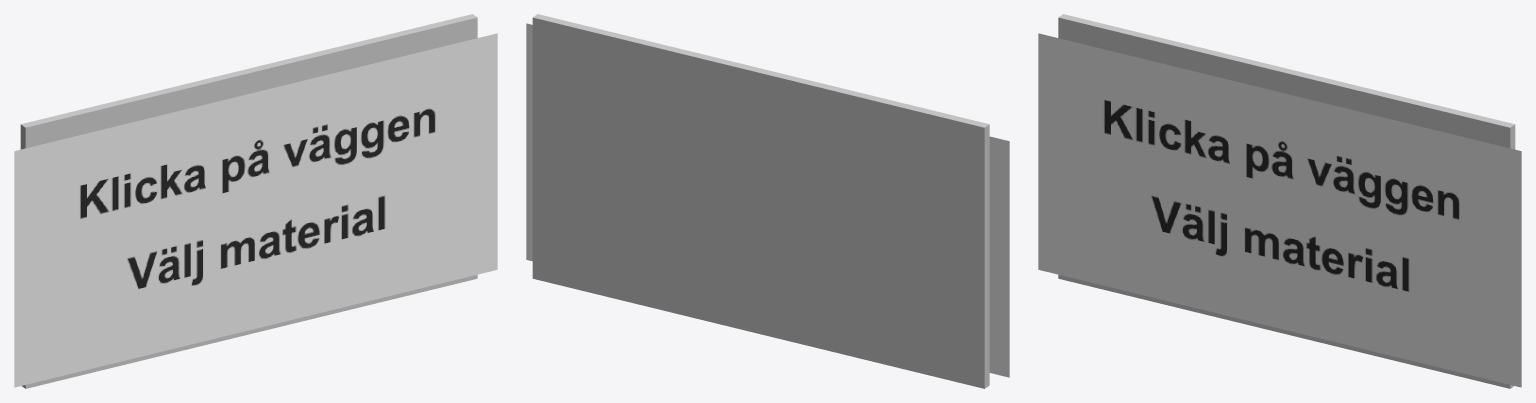
The model's file is c0354625-4acc-4bcf-860f-0e291a05182d.glb.
The picture shows the model from 3 angles, left to right: view 1: azimuth 30°, elevation 25°; view 2: azimuth 150°, elevation 25°; view 3: azimuth 330°, elevation 25°; orthographic projection.
Visible parts, largest first — view 1: Screenshot 2026-08-05 at 19.57.31, Cube; view 2: Cube, Screenshot 2026-08-05 at 19.57.31; view 3: Screenshot 2026-08-05 at 19.57.31, Cube.
Boxes of the visible parts, x1,y1,x2,y2 form: Screenshot 2026-08-05 at 19.57.31: (14, 33, 497, 387); Cube: (20, 14, 477, 388); Cube: (532, 14, 989, 388); Screenshot 2026-08-05 at 19.57.31: (526, 23, 1009, 377); Screenshot 2026-08-05 at 19.57.31: (1038, 33, 1521, 387); Cube: (1058, 14, 1515, 388).
Size of the model in its own units: 2.14 by 1.1 by 0.0706.
Materials: 2 (1 with a texture image).
